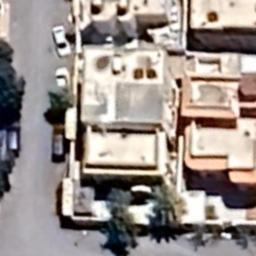sedan: (52, 24, 72, 58), (7, 120, 20, 156), (55, 66, 70, 88)
van: (51, 128, 65, 162)
